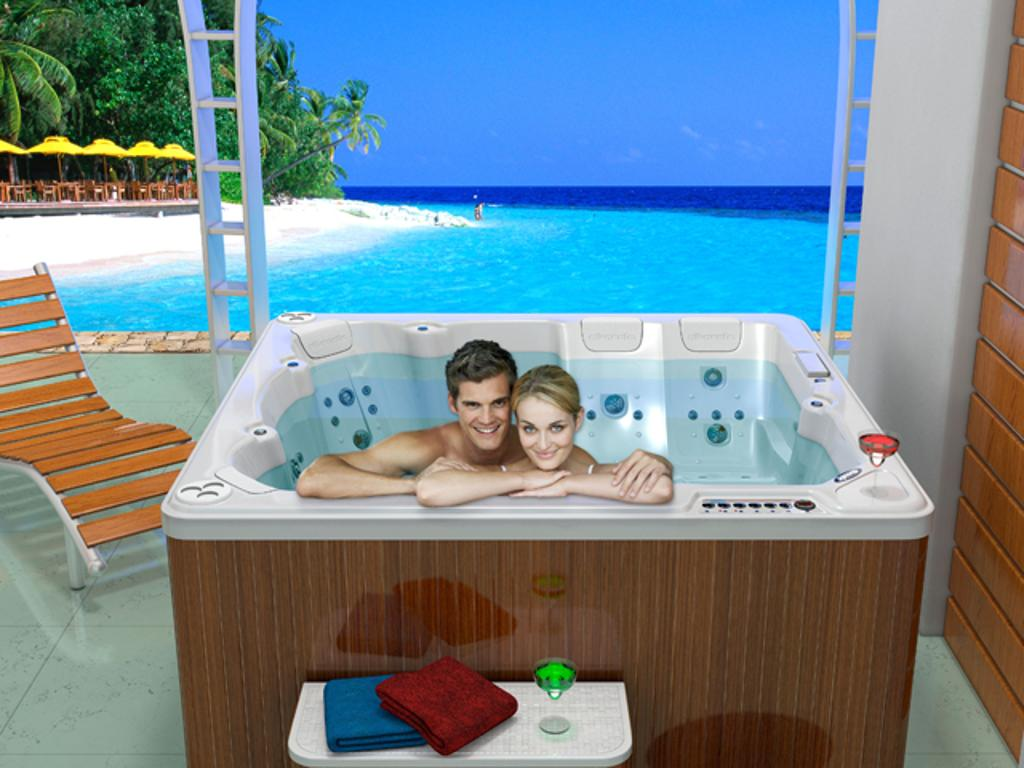face: (516, 395, 574, 470), (456, 382, 510, 450)
